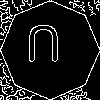U: (25, 25, 61, 71)
